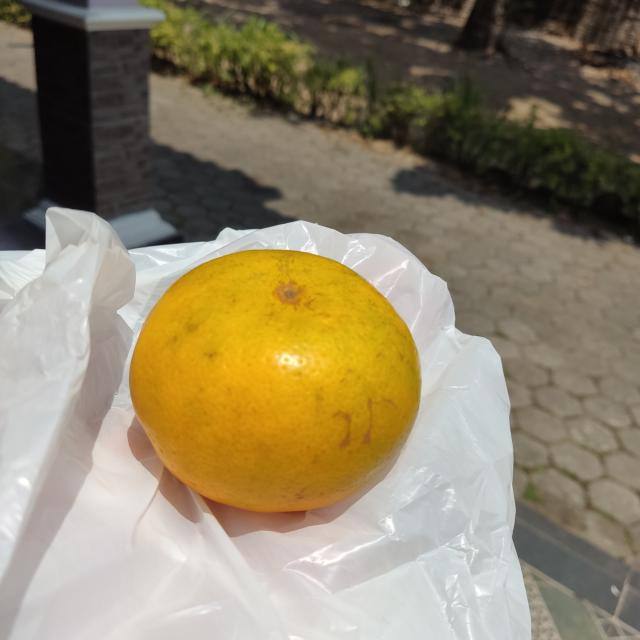orange: (128, 246, 420, 518)
